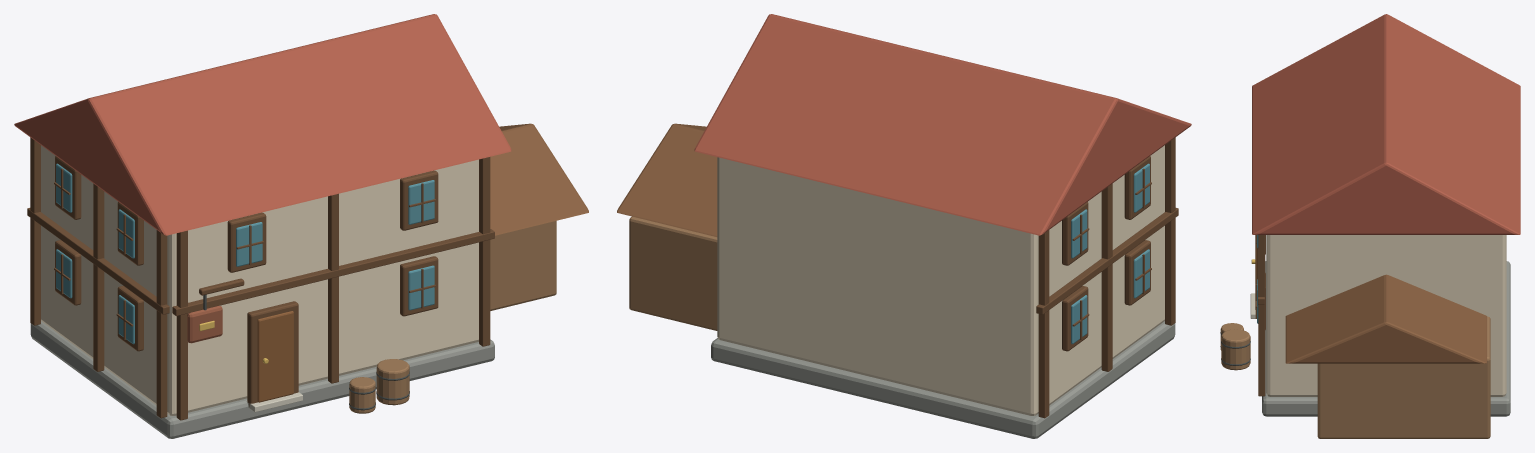
File: temperate-inn-0.glb
The picture shows the model from 3 angles, left to right: view 1: azimuth 30°, elevation 25°; view 2: azimuth 150°, elevation 25°; view 3: azimuth 270°, elevation 25°; orthographic projection. The views are drawn at different scales.
Parts seen in each view (by area): view 1: Clay tiles, Warm lime, Dark beams, Foundation stone, Aged oak, Wood shingles, Blue glass, Door oak, Painted sign; view 2: Warm lime, Clay tiles, Dark beams, Foundation stone, Aged oak, Wood shingles, Blue glass; view 3: Clay tiles, Warm lime, Aged oak, Wood shingles, Foundation stone, Dark beams.
Boxes of the visible parts, x1,y1,x2,y2 form: Clay tiles: [14, 14, 511, 235]; Warm lime: [41, 145, 478, 415]; Dark beams: [27, 137, 494, 420]; Foundation stone: [30, 321, 494, 438]; Aged oak: [349, 221, 556, 413]; Wood shingles: [490, 123, 588, 235]; Blue glass: [56, 163, 434, 344]; Door oak: [257, 311, 293, 402]; Painted sign: [187, 305, 222, 343]; Warm lime: [717, 145, 1164, 415]; Clay tiles: [694, 14, 1191, 235]; Dark beams: [1036, 137, 1178, 418]; Foundation stone: [711, 321, 1175, 438]; Aged oak: [629, 216, 717, 330]; Wood shingles: [617, 123, 717, 236]; Blue glass: [1071, 163, 1149, 344]; Clay tiles: [1252, 14, 1520, 234]; Warm lime: [1266, 235, 1506, 396]; Aged oak: [1220, 316, 1490, 438]; Wood shingles: [1285, 274, 1486, 363]; Foundation stone: [1262, 261, 1510, 416]; Dark beams: [1255, 235, 1265, 396].
Size of the model in its own units: 6.44 by 4.05 by 4.25.
